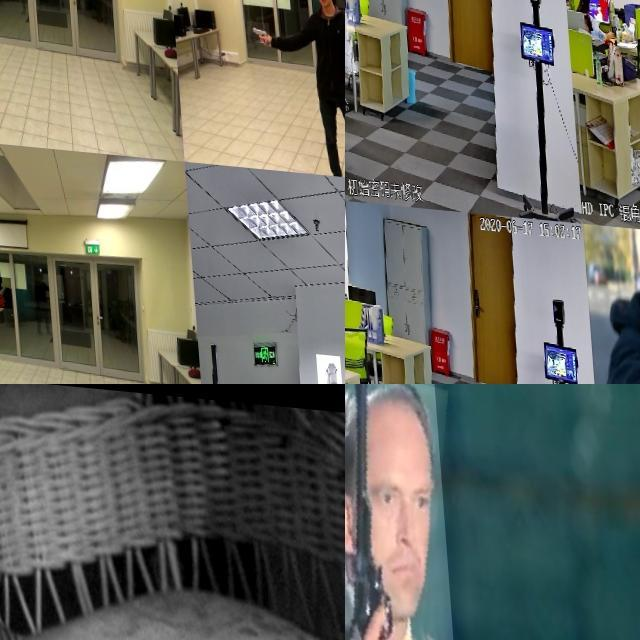gun-knife-thesis - v11 Yolov5 augmented: (345, 384, 455, 640), (345, 3, 368, 73), (308, 345, 337, 384), (244, 13, 267, 35), (345, 288, 358, 326), (0, 273, 12, 306), (0, 0, 10, 18)
